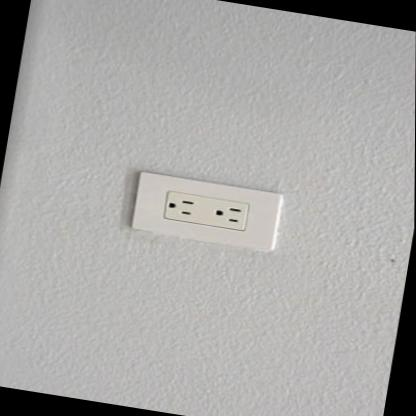OUTLET: (124, 169, 286, 252)
